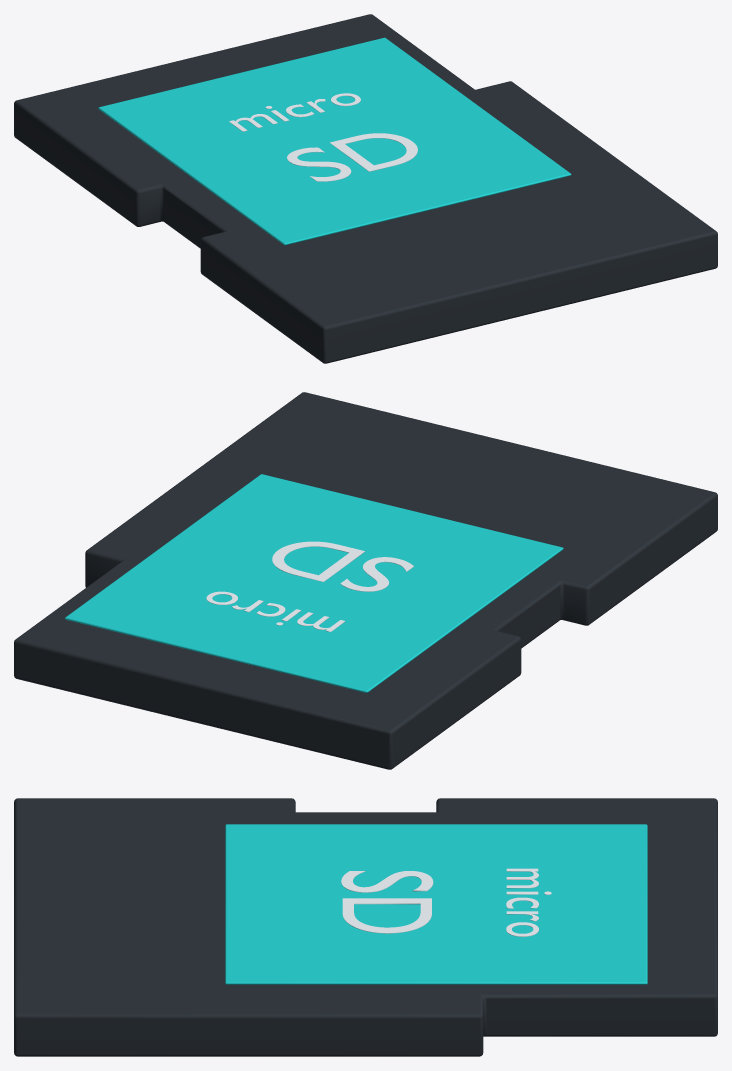
The model's file is microSD_card.glb.
3 renders of one model, top to bottom at view 1: azimuth 30°, elevation 25°; view 2: azimuth 150°, elevation 25°; view 3: azimuth 270°, elevation 25°, orthographic. The views are drawn at different scales.
Parts seen in each view (by area): view 1: microSD body, Micro label, SD.001, micro; view 2: microSD body, Micro label, SD.001, micro; view 3: microSD body, Micro label, SD.001, micro.
Boxes of the visible parts, x1,y1,x2,y2 form: microSD body: [14, 14, 717, 363]; Micro label: [98, 37, 571, 245]; SD.001: [287, 133, 417, 181]; micro: [229, 93, 360, 131]; microSD body: [14, 392, 717, 769]; Micro label: [65, 474, 563, 692]; SD.001: [272, 541, 413, 591]; micro: [206, 591, 345, 631]; microSD body: [14, 798, 717, 1056]; Micro label: [225, 824, 647, 984]; SD.001: [341, 871, 433, 933]; micro: [506, 868, 551, 936].
Size of the model in its own units: 0.011 by 0.00116 by 0.015.
